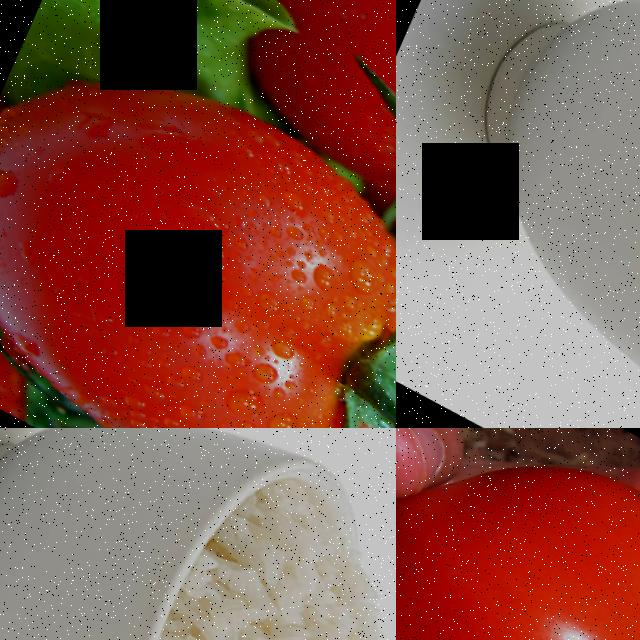tomato: (0, 0, 396, 428), (396, 428, 640, 640)
white rice: (97, 428, 396, 640)
